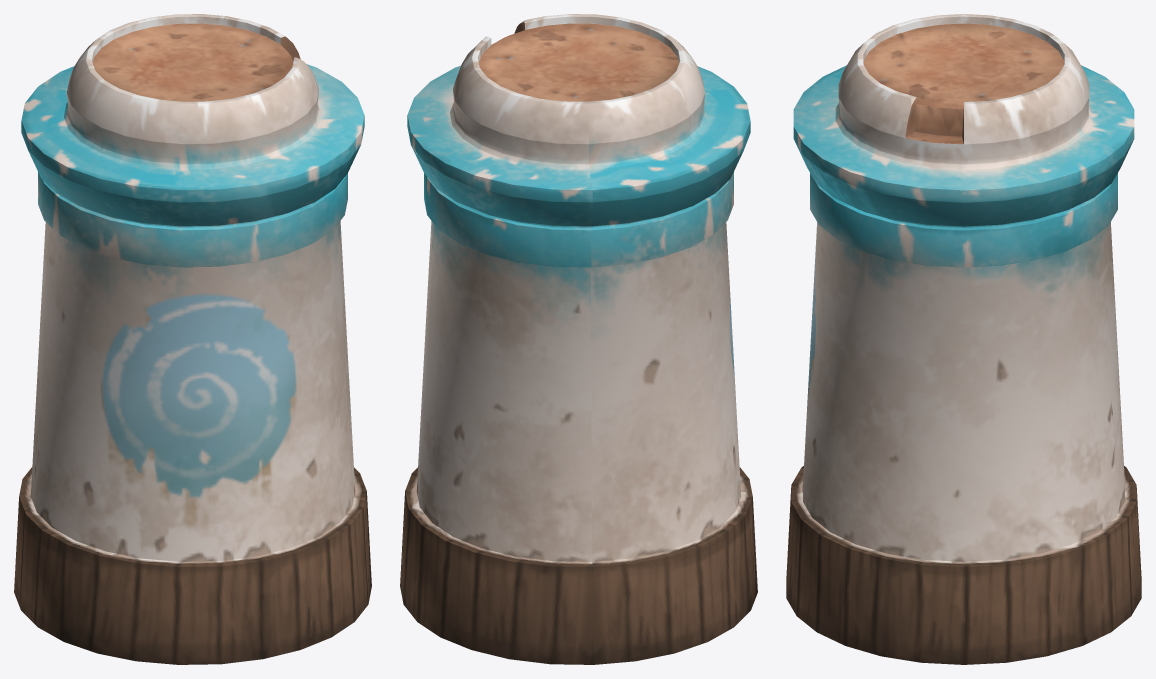
File: tour_cassee_ronde_z1.FBX
3 renders of one model, left to right at view 1: azimuth 30°, elevation 25°; view 2: azimuth 150°, elevation 25°; view 3: azimuth 270°, elevation 25°, orthographic.
Visible parts, largest first — view 1: tour_cassee_ronde_z1; view 2: tour_cassee_ronde_z1; view 3: tour_cassee_ronde_z1.
Boxes of the visible parts, <box> form: tour_cassee_ronde_z1: <box>14,14,371,664</box>; tour_cassee_ronde_z1: <box>400,14,757,664</box>; tour_cassee_ronde_z1: <box>786,14,1141,664</box>.
Size of the model in its own units: 928 by 1517 by 921.
